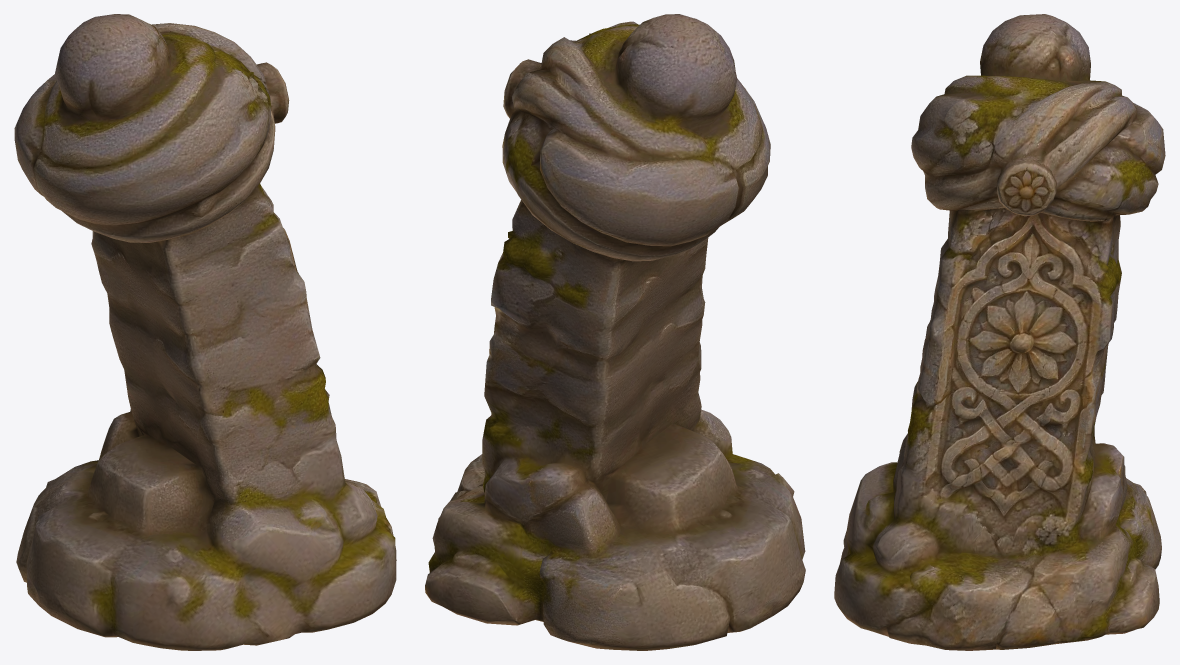
The model's file is n_mezartasi.glb.
The picture shows the model from 3 angles, left to right: view 1: azimuth 30°, elevation 25°; view 2: azimuth 150°, elevation 25°; view 3: azimuth 270°, elevation 25°; orthographic projection. The views are drawn at different scales.
Visible parts, largest first — view 1: tripo_node_8eb14061-e4c2-47b2-9f91-506b180588a6; view 2: tripo_node_8eb14061-e4c2-47b2-9f91-506b180588a6; view 3: tripo_node_8eb14061-e4c2-47b2-9f91-506b180588a6.
Boxes of the visible parts, x1,y1,x2,y2 form: tripo_node_8eb14061-e4c2-47b2-9f91-506b180588a6: [14, 14, 396, 650]; tripo_node_8eb14061-e4c2-47b2-9f91-506b180588a6: [425, 14, 805, 650]; tripo_node_8eb14061-e4c2-47b2-9f91-506b180588a6: [834, 14, 1165, 650].
Bounding box in the file's own units: 0.5996 × 0.998 × 0.5644.
1 material, 1 textured.
